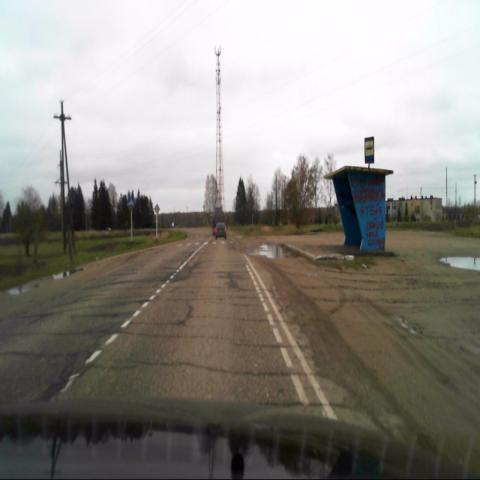5_16: (364, 136, 375, 164)
5_19_1: (128, 194, 134, 206)
